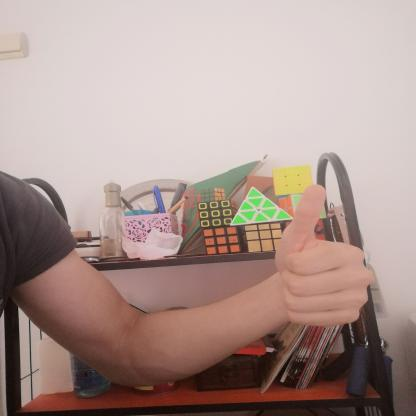ALIF: (262, 176, 386, 338)
